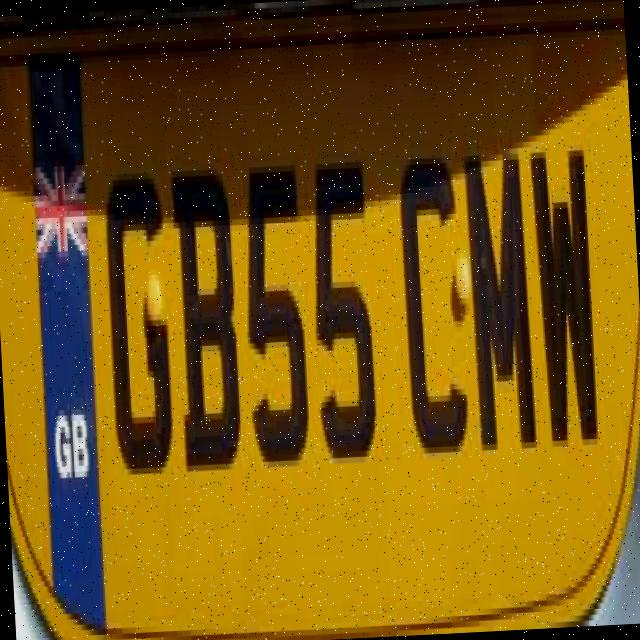Autre: (16, 21, 640, 640)
